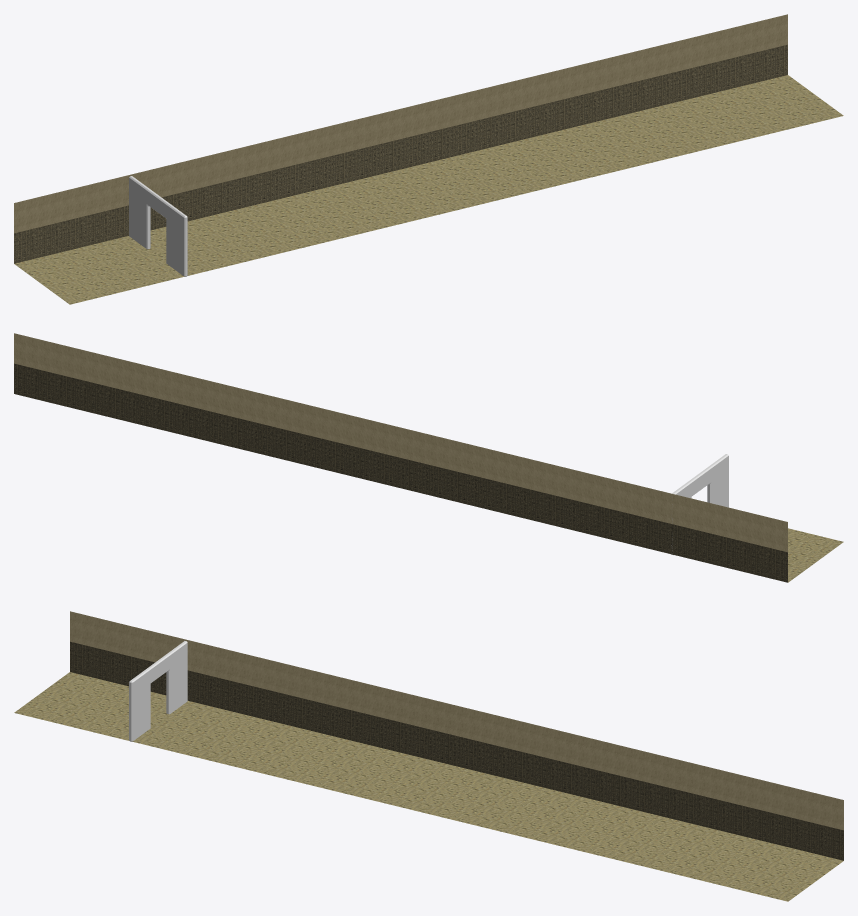
Rendered from level1.glb.
3 views of the same model, one above another, from view 1: azimuth 30°, elevation 25°; view 2: azimuth 150°, elevation 25°; view 3: azimuth 330°, elevation 25° (orthographic).
Visible parts, largest first — view 1: muro, pavimento, architrave; view 2: muro, pavimento, architrave; view 3: muro, pavimento, architrave.
Part boxes in pixels (box(x1,y1,x2,y2)): muro: box(14, 14, 787, 263); pavimento: box(14, 75, 843, 304); architrave: box(129, 176, 187, 276); muro: box(14, 333, 787, 582); pavimento: box(788, 528, 843, 582); architrave: box(671, 454, 728, 554); muro: box(70, 611, 843, 860); pavimento: box(14, 672, 843, 901); architrave: box(129, 641, 187, 741).
Bounding box in the file's own units: 40 × 3.05 × 5.
3 materials, 3 textured.
